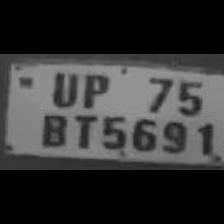1: (190, 119, 218, 156)
5: (96, 110, 127, 152), (172, 76, 204, 114)
6: (126, 114, 158, 152)
7: (140, 72, 172, 114)
9: (156, 118, 188, 154)
B: (37, 110, 69, 148)
P: (76, 69, 112, 108)
T: (68, 113, 96, 150)
U: (45, 68, 79, 106)
